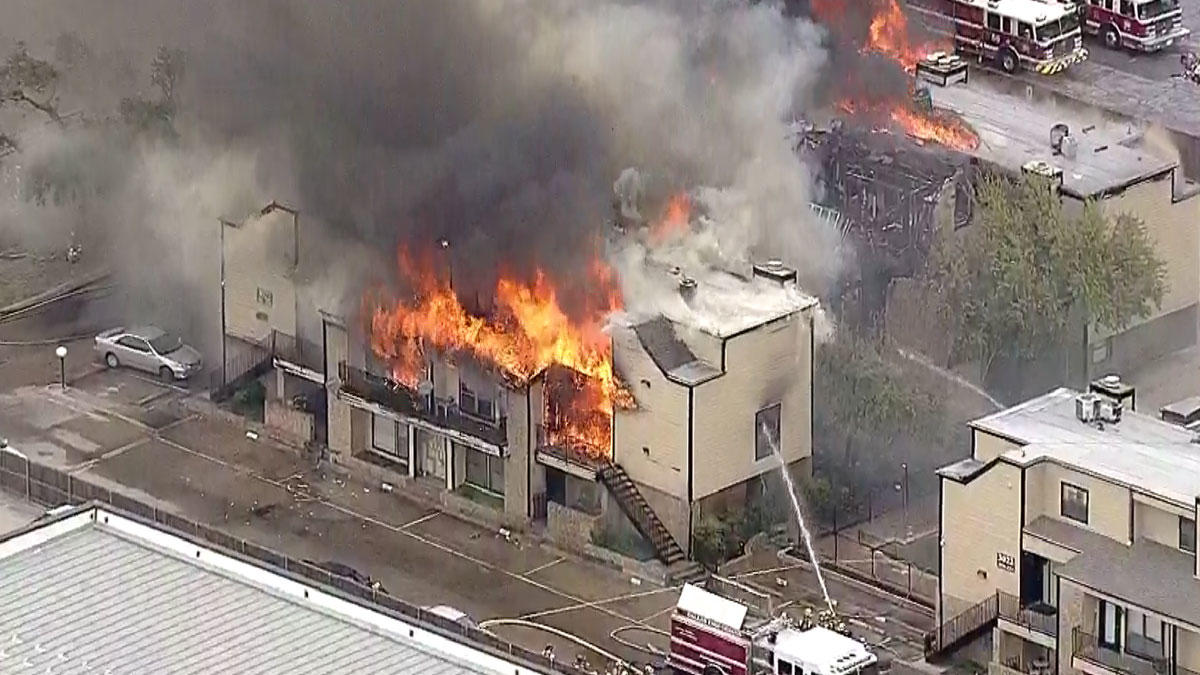fire: (375, 251, 613, 403)
smoke: (16, 9, 598, 245), (604, 24, 840, 274), (100, 244, 363, 360)
